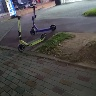beam: (26, 3, 59, 35)
gcooter: (6, 14, 49, 53)
